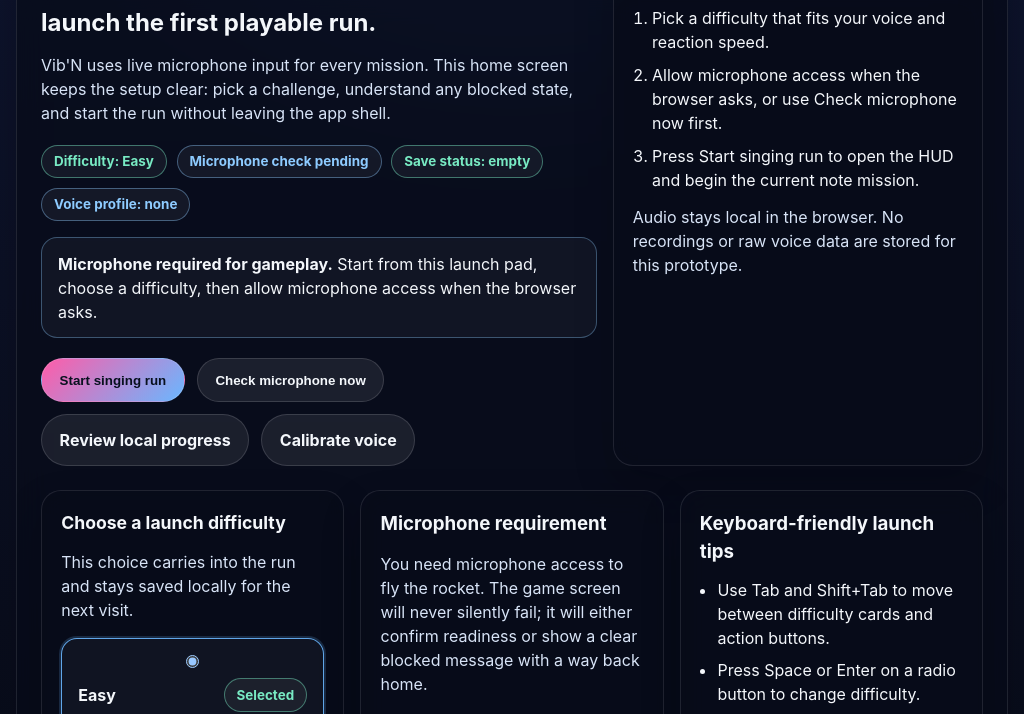
Home screen launch flow › starts the run flow from home and lands in the playable HUD
The width and height of the screenshot is (1024, 714).
(page scrolled)
Click the button "Start singing run". click: (113, 380)
box: [41,358,185,402]
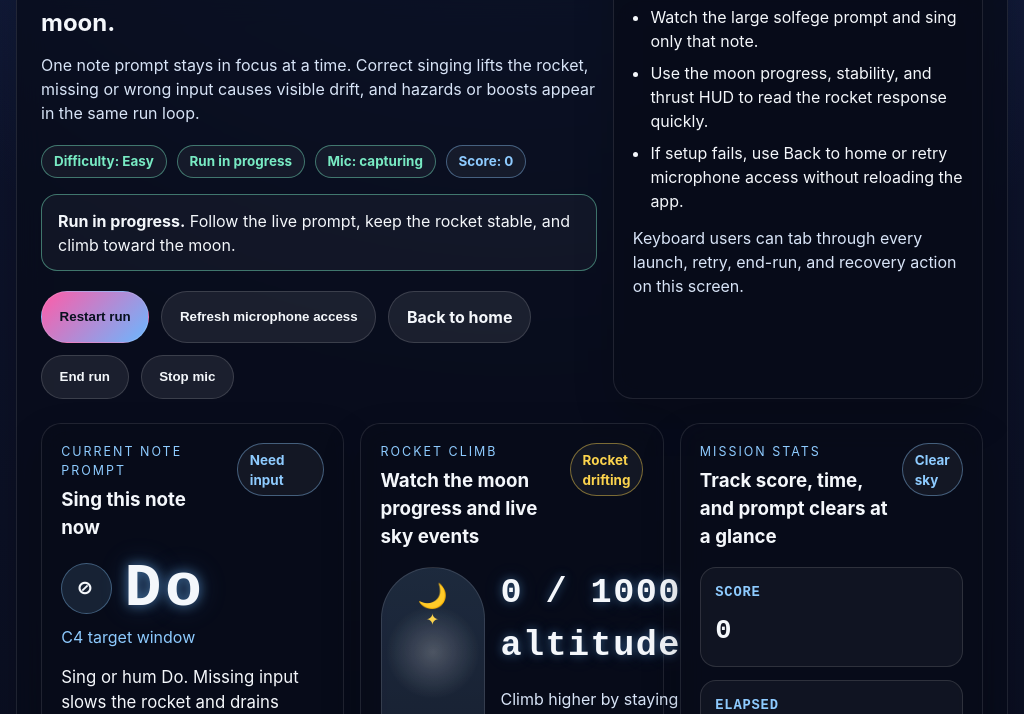
Expected: the button "End run" is enabled, [41,355,128,399]
